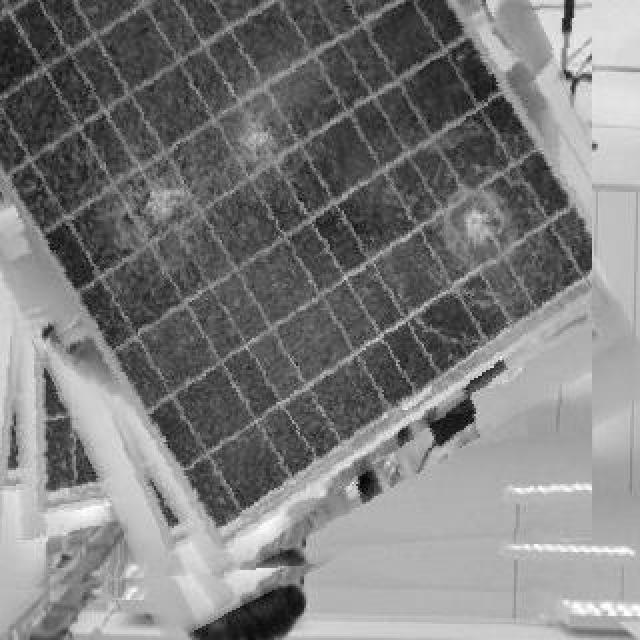Physical-damage: (356, 89, 591, 362), (89, 62, 318, 291)
